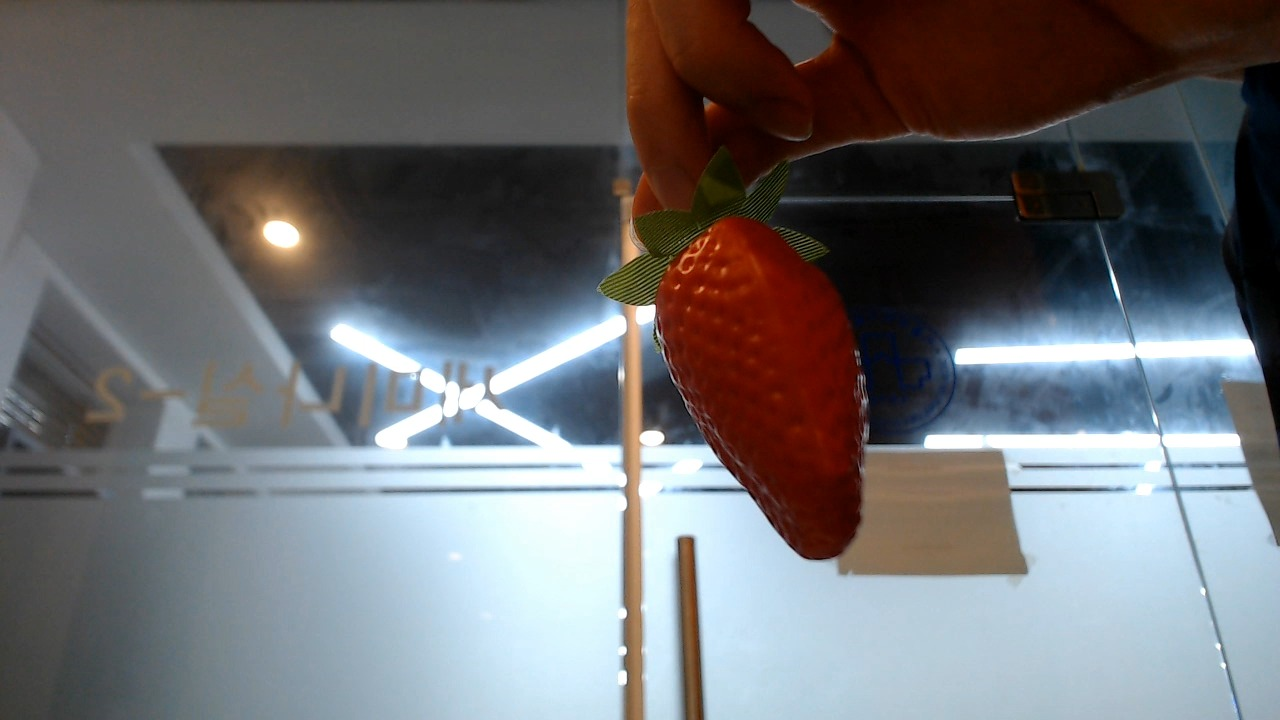strawberry: (654, 207, 864, 558)
